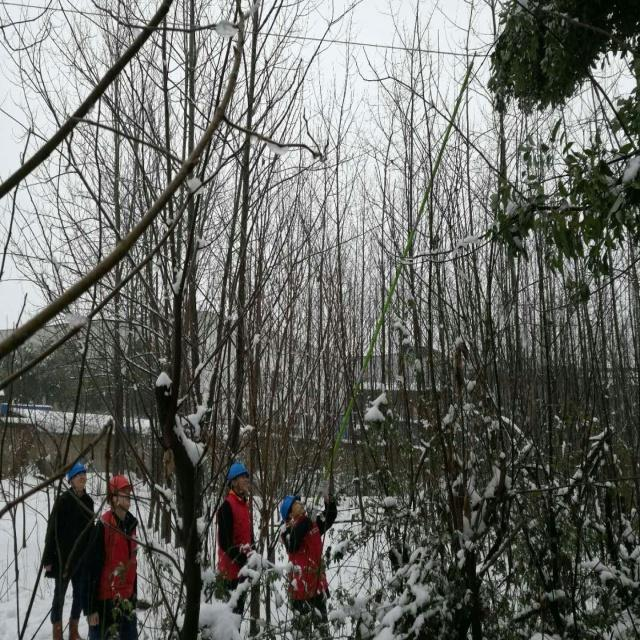helmet: (226, 613, 249, 640), (66, 612, 88, 640), (104, 632, 132, 640)
